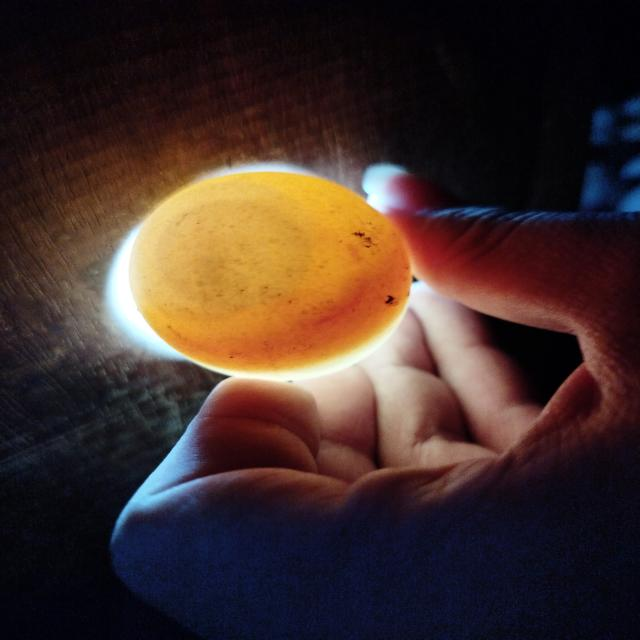Camara de Ar: (156, 202, 312, 312)
Gema Quebrada: (218, 257, 411, 369)
